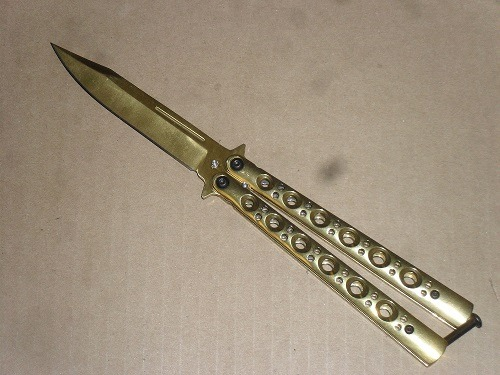knife: (45, 38, 485, 370)
